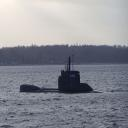submarine: (20, 71, 105, 94)
